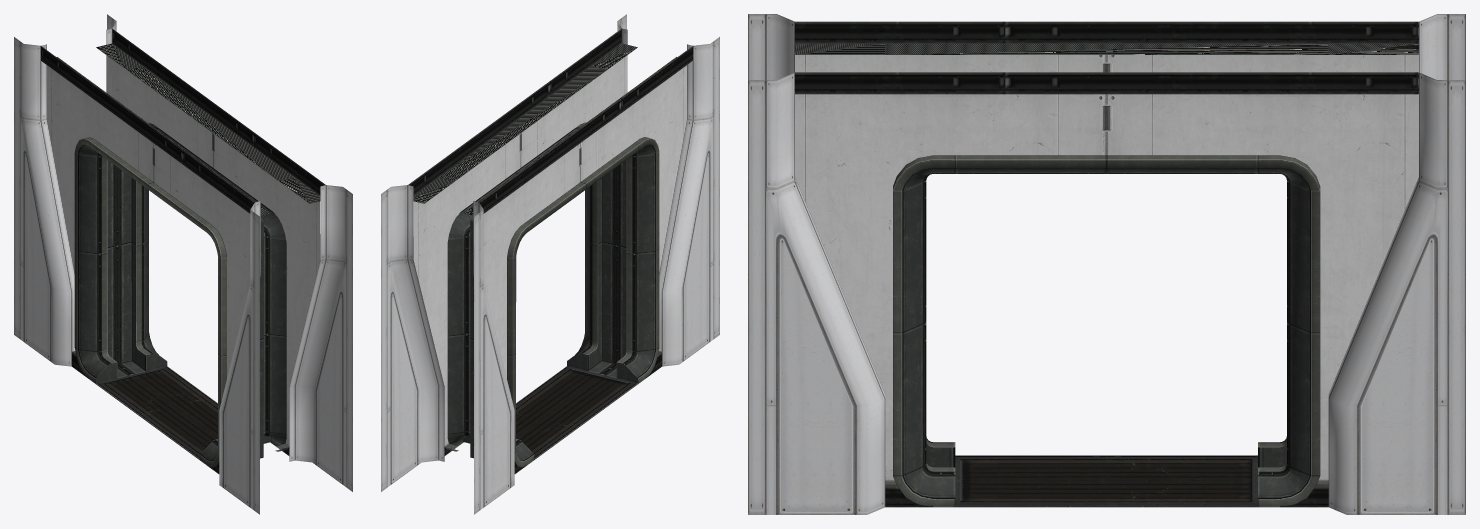
The model's file is Neon_DoorFrame_01c.FBX.
3 views of the same model, side by side, from view 1: azimuth 30°, elevation 25°; view 2: azimuth 150°, elevation 25°; view 3: azimuth 270°, elevation 25° (orthographic). The views are drawn at different scales.
Visible parts, largest first — view 1: Neon_DoorFrame_01c; view 2: Neon_DoorFrame_01c; view 3: Neon_DoorFrame_01c.
Boxes of the visible parts, <box> form: Neon_DoorFrame_01c: <box>14,14,352,514</box>; Neon_DoorFrame_01c: <box>381,14,719,514</box>; Neon_DoorFrame_01c: <box>748,14,1465,514</box>.
Size of the model in its own units: 1.3 by 4 by 5.98.
